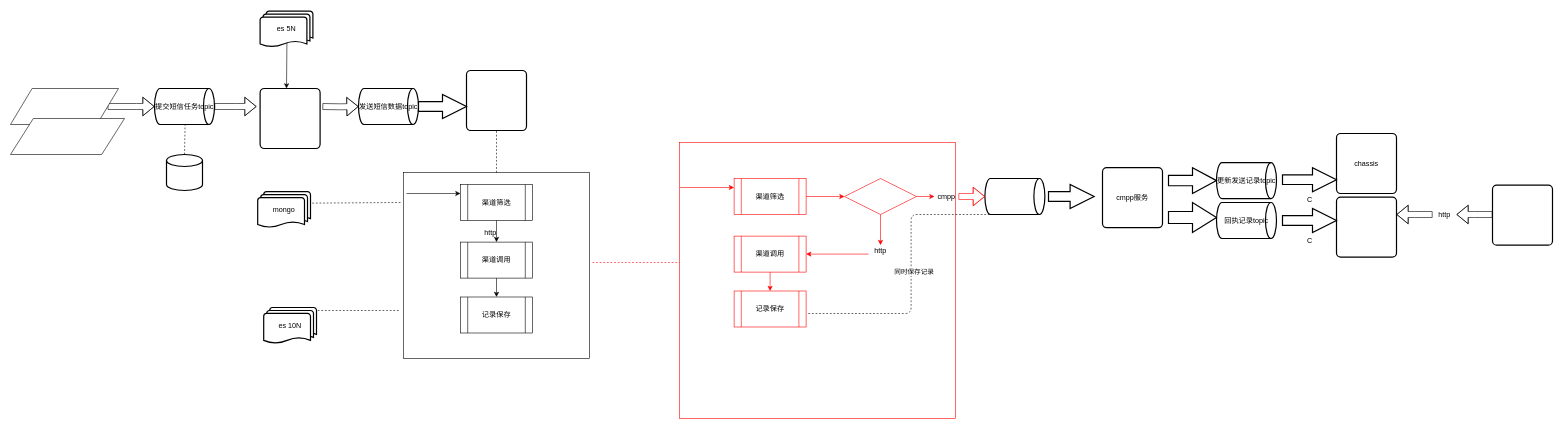
Some shapes in this 1564 by 429 pixel diagram are drawn without their labels. The centre of each missing label's shape, as x and y in pixels:
cmpp topic: the point at 1014,196
feed: the point at 1366,226
mysql: the point at 184,172
协议判断: the point at 880,196
流式处理: the point at 289,118
渠道: the point at 1522,214
用户单短信任务: the point at 64,106
用户短信任务批量提交: the point at 67,136
短信发送: the point at 496,100
